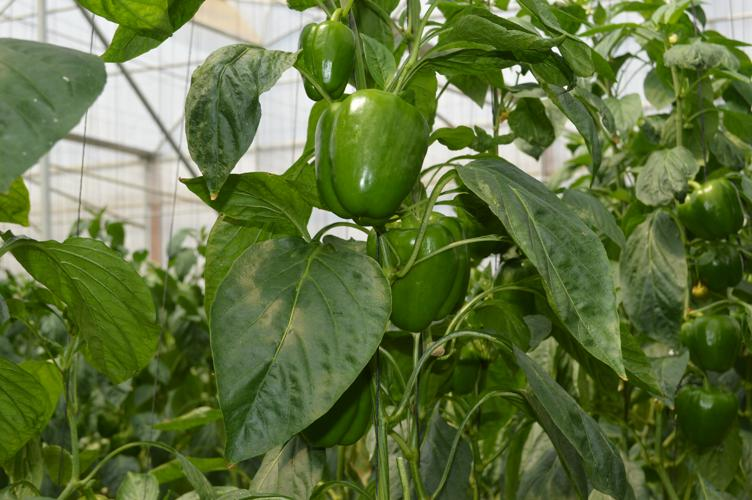BellPepper: (313, 94, 435, 215), (371, 221, 473, 326), (290, 19, 354, 95), (673, 179, 745, 235), (679, 313, 745, 373), (677, 382, 732, 450), (691, 245, 746, 288)
